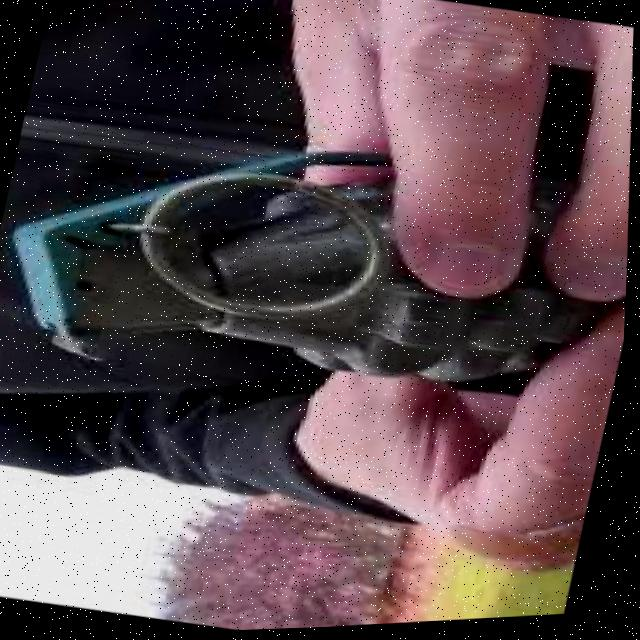grenade: (0, 77, 626, 462)
